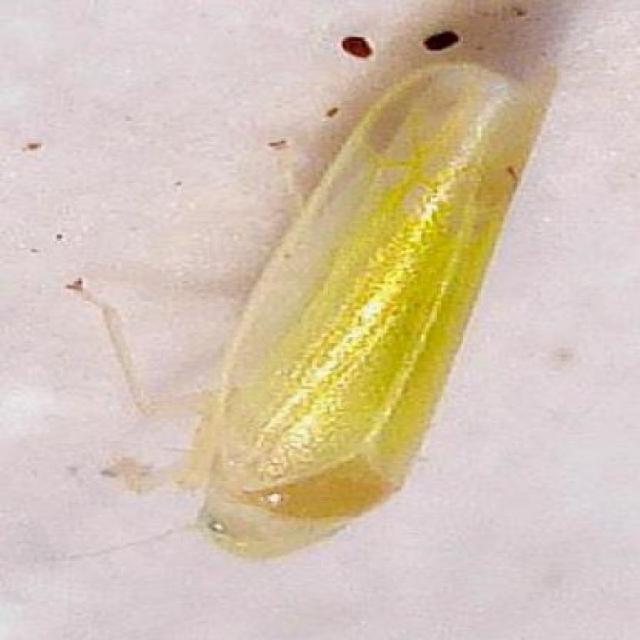green-leafhopper: (138, 54, 537, 558)
